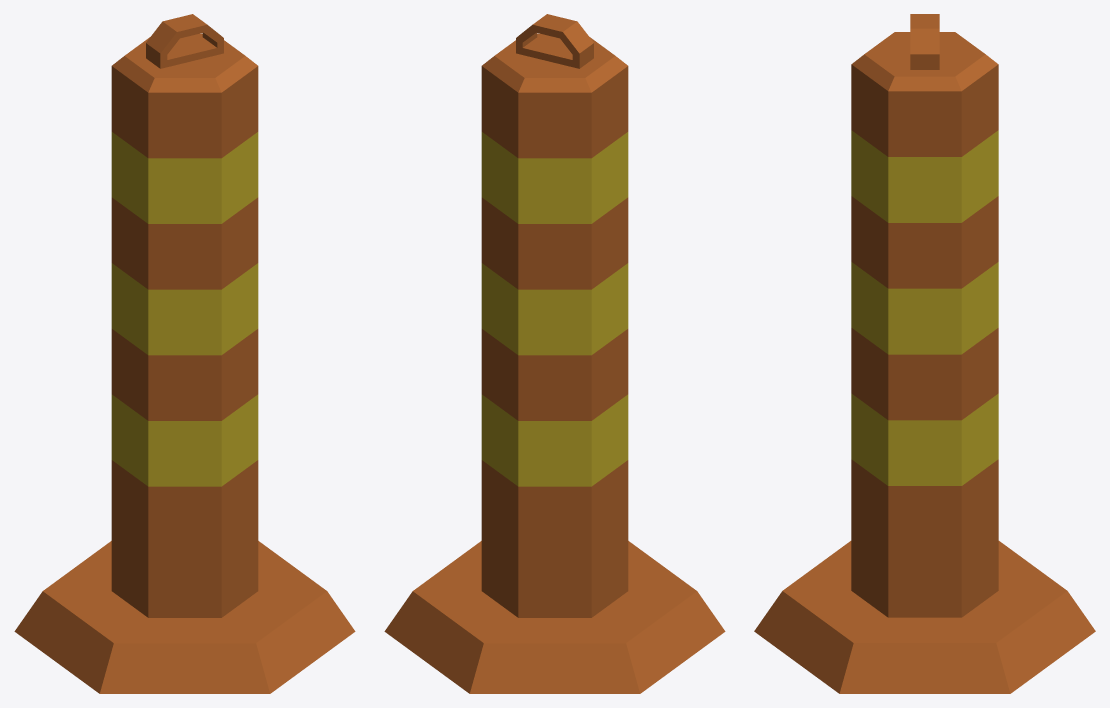
The model's file is Barricade 2.fbx.
3 renders of one model, left to right at view 1: azimuth 30°, elevation 25°; view 2: azimuth 150°, elevation 25°; view 3: azimuth 270°, elevation 25°, orthographic.
Parts seen in each view (by area): view 1: Barricade 2; view 2: Barricade 2; view 3: Barricade 2.
Part boxes in pixels (x1,y1,x2,y2): Barricade 2: (14, 14, 355, 693); Barricade 2: (384, 14, 725, 693); Barricade 2: (754, 14, 1095, 693).
Size of the model in its own units: 0.3597 by 0.4153 by 0.8176.
